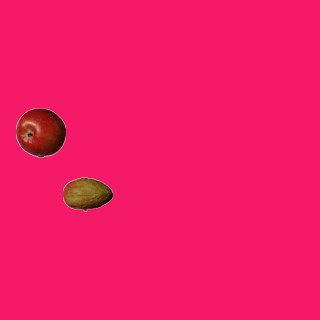Apple Braeburn: (15, 107, 65, 157)
Papaya: (62, 169, 112, 219)
